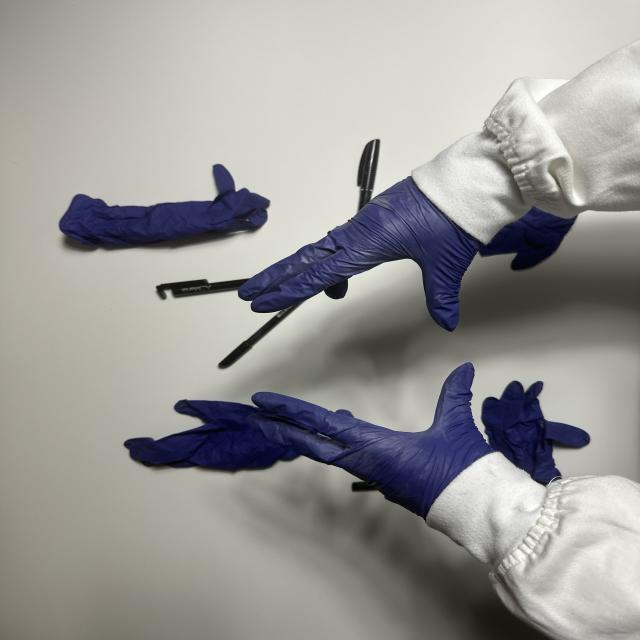gloves_contaminated: (250, 363, 493, 517), (240, 178, 480, 331)
